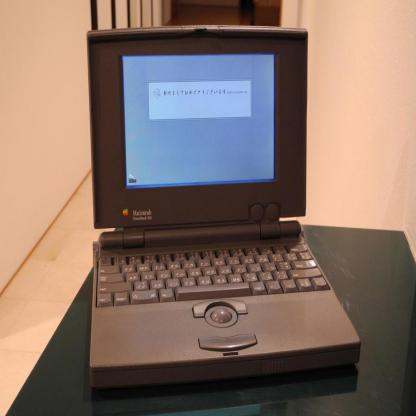board: (85, 7, 340, 396)
